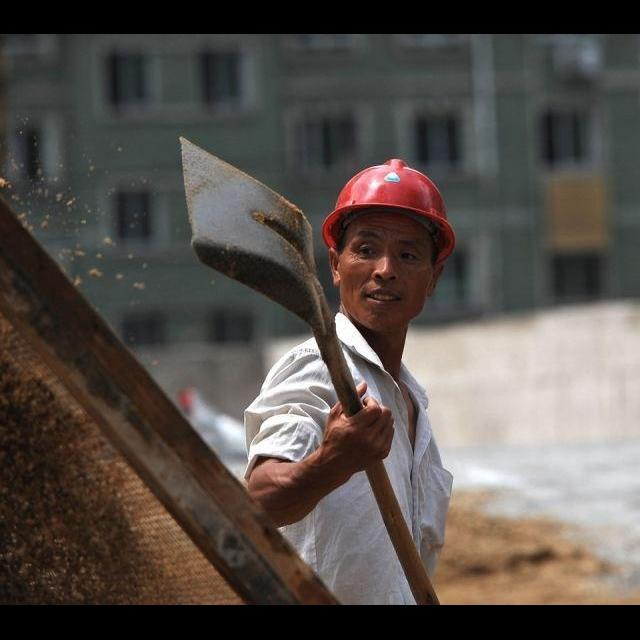Hardhat: (320, 161, 459, 261)
NO-Mask: (345, 285, 424, 330)
NO-Safety Vest: (271, 348, 430, 606)
Person: (229, 158, 456, 606)
